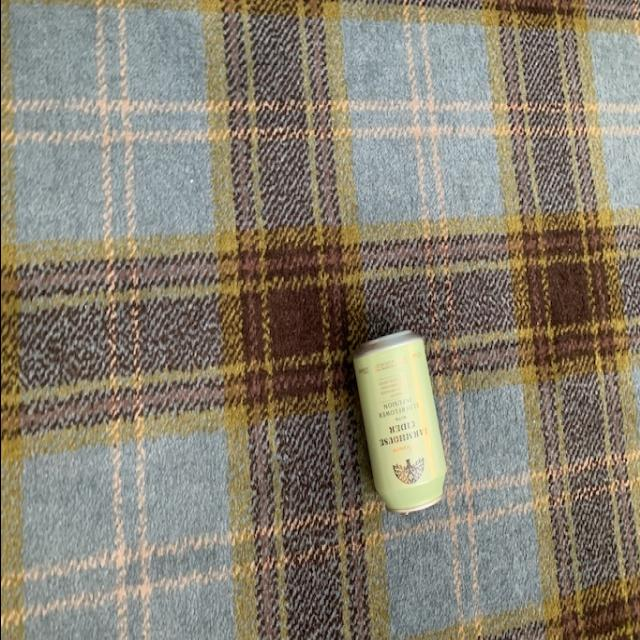litter: (354, 322, 445, 524)
